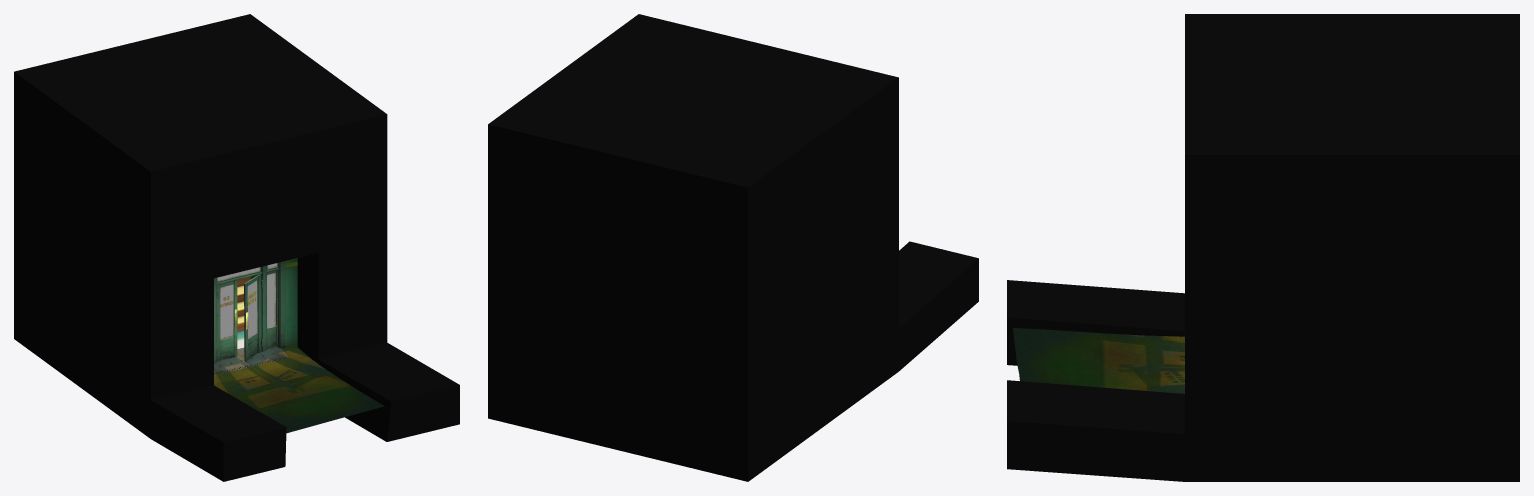
The model's file is Hotel_1.fbx.
The picture shows the model from 3 angles, left to right: view 1: azimuth 30°, elevation 25°; view 2: azimuth 150°, elevation 25°; view 3: azimuth 270°, elevation 25°; orthographic projection. The views are drawn at different scales.
Parts seen in each view (by area): view 1: Object_17, Object_20, Object_23, Object_4, Porta_1, Object_7, Porta, Vidro_Porta_1, Object_6, Vidro_Porta; view 2: Object_17; view 3: Object_17, Object_20.
Part boxes in pixels (bbox=[...]): Object_17: bbox=[14, 14, 459, 481]; Object_20: bbox=[214, 343, 384, 433]; Object_23: bbox=[214, 261, 285, 363]; Object_4: bbox=[285, 258, 297, 346]; Porta_1: bbox=[216, 280, 237, 361]; Object_7: bbox=[214, 346, 287, 374]; Porta: bbox=[244, 274, 261, 360]; Vidro_Porta_1: bbox=[220, 284, 233, 339]; Object_6: bbox=[217, 267, 275, 328]; Vidro_Porta: bbox=[247, 280, 257, 338]; Object_17: bbox=[488, 14, 978, 481]; Object_17: bbox=[1007, 14, 1519, 481]; Object_20: bbox=[1013, 328, 1184, 393].
Size of the model in its own units: 3691 by 3414 by 5245.
